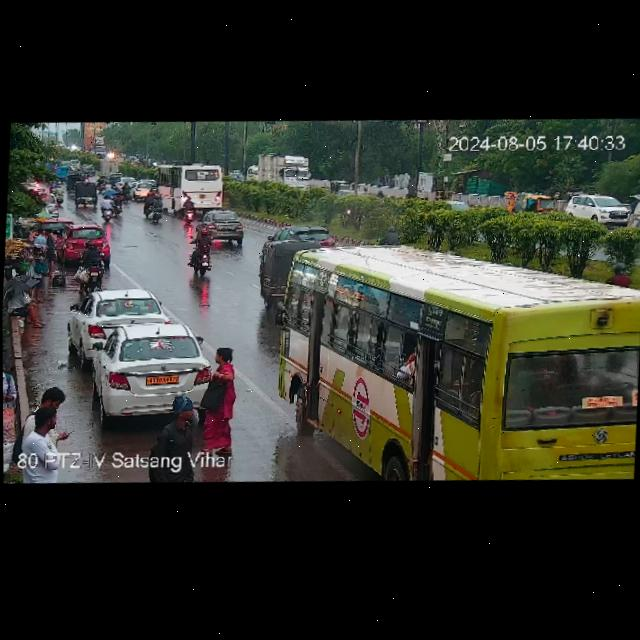bus: (282, 236, 640, 499), (82, 133, 109, 162), (101, 159, 119, 180)
car: (87, 315, 214, 421), (74, 284, 166, 349), (261, 240, 310, 303), (562, 191, 629, 229), (268, 224, 339, 252), (195, 208, 246, 245), (58, 222, 106, 261), (512, 186, 556, 217), (36, 218, 74, 240), (75, 180, 98, 209), (437, 199, 472, 217), (327, 178, 356, 197), (132, 180, 153, 198), (67, 173, 86, 192)
motorcycle: (188, 228, 217, 279), (76, 238, 109, 279), (142, 191, 167, 223), (100, 195, 113, 222), (185, 198, 194, 224), (53, 184, 64, 205), (113, 193, 123, 215)
person: (14, 381, 72, 479), (147, 391, 202, 483), (197, 345, 243, 448), (10, 273, 41, 327), (28, 246, 48, 302), (43, 227, 55, 276)
truck: (149, 161, 228, 215), (256, 151, 311, 189)
